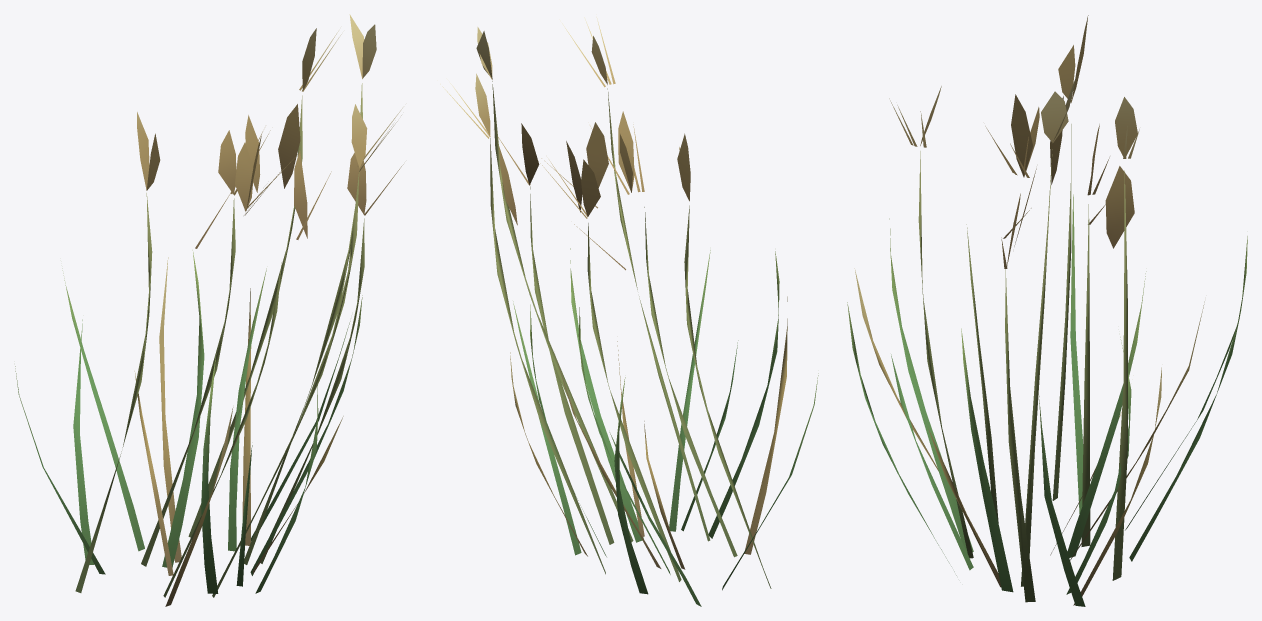
The model's file is SeedStemClump_LOD0.glb.
3 renders of one model, left to right at view 1: azimuth 30°, elevation 25°; view 2: azimuth 150°, elevation 25°; view 3: azimuth 270°, elevation 25°, orthographic. The views are drawn at different scales.
Visible parts, largest first — view 1: SeedStemClump_LOD0; view 2: SeedStemClump_LOD0; view 3: SeedStemClump_LOD0.
Boxes of the visible parts, left/top/right/bottom form: SeedStemClump_LOD0: left=15, top=14, right=403, bottom=606; SeedStemClump_LOD0: left=440, top=17, right=818, bottom=606; SeedStemClump_LOD0: left=847, top=15, right=1247, bottom=606.
Bounding box in the file's own units: 0.3705 × 0.4965 × 0.305.
